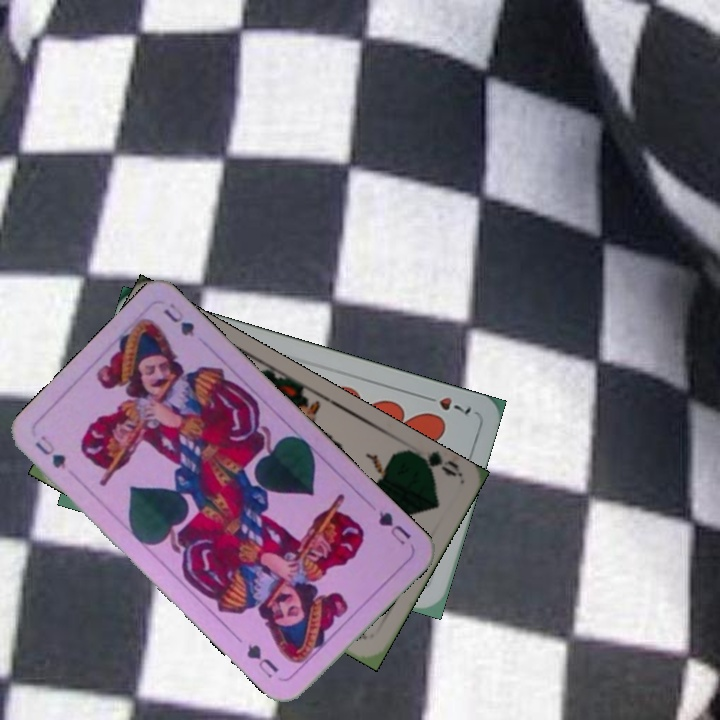GO: (403, 445, 461, 479)
GU: (374, 505, 414, 548), (30, 431, 69, 471)
H7: (418, 391, 474, 417)
